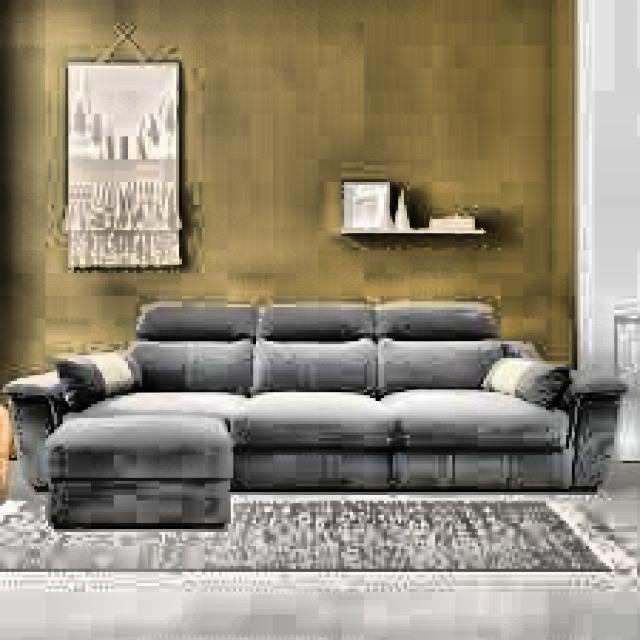sofa: (20, 302, 609, 524)
